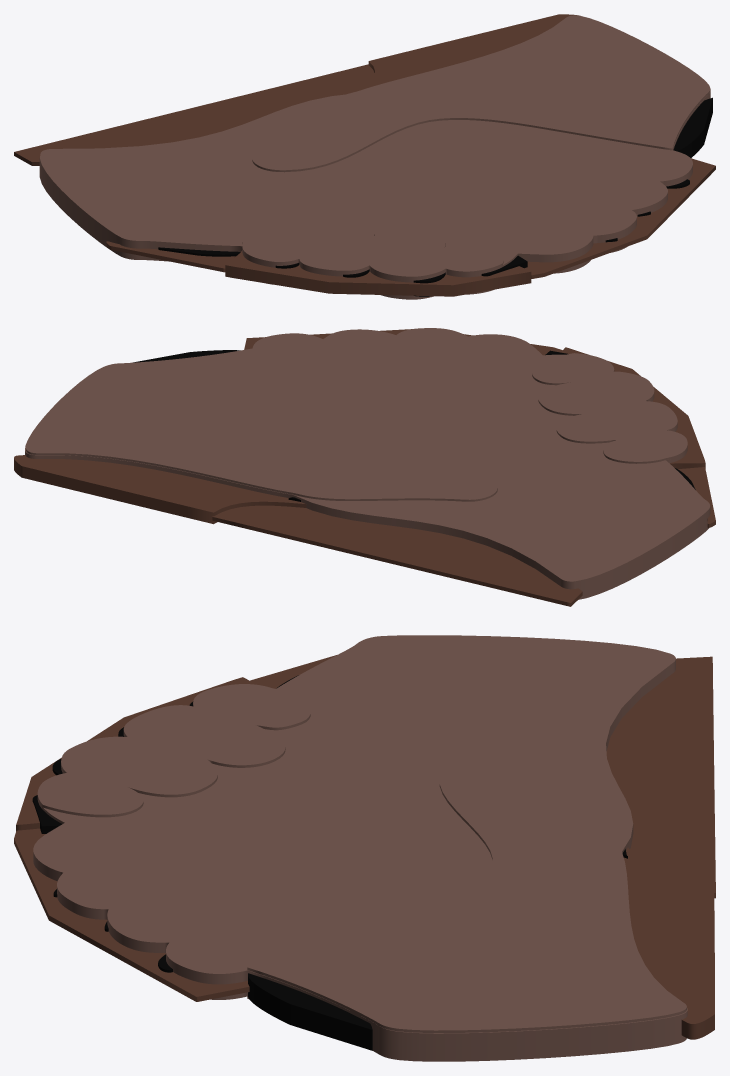
File: emoji_u1f91d_1f3ff.glb
The picture shows the model from 3 angles, top to bottom: view 1: azimuth 30°, elevation 25°; view 2: azimuth 150°, elevation 25°; view 3: azimuth 270°, elevation 25°; orthographic projection. The views are drawn at different scales.
Parts seen in each view (by area): view 1: emoji_u1f91d_1f3ff; view 2: emoji_u1f91d_1f3ff; view 3: emoji_u1f91d_1f3ff.
Part boxes in pixels (x1,y1,x2,y2): emoji_u1f91d_1f3ff: (14, 14, 715, 299); emoji_u1f91d_1f3ff: (14, 328, 715, 606); emoji_u1f91d_1f3ff: (14, 635, 715, 1061).
Bounding box in the file's own units: 0.0332 × 0.0012 × 0.0244.
